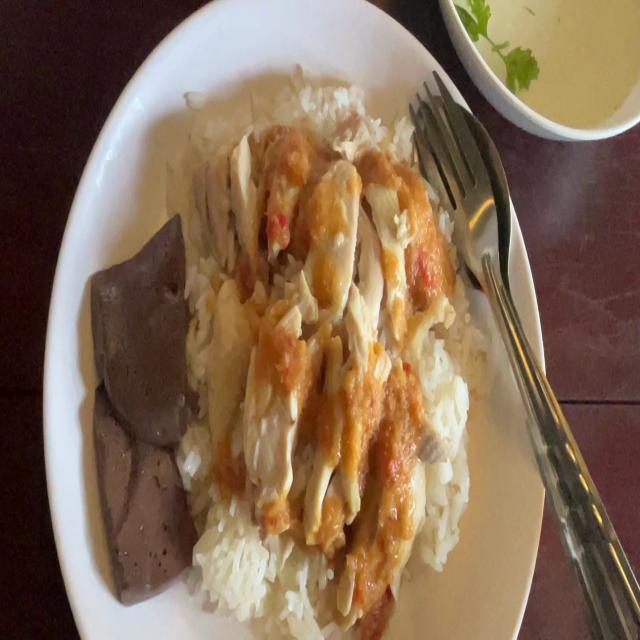chicken_rice: (200, 140, 435, 523)
noodle: (90, 224, 183, 446), (95, 374, 185, 586)
